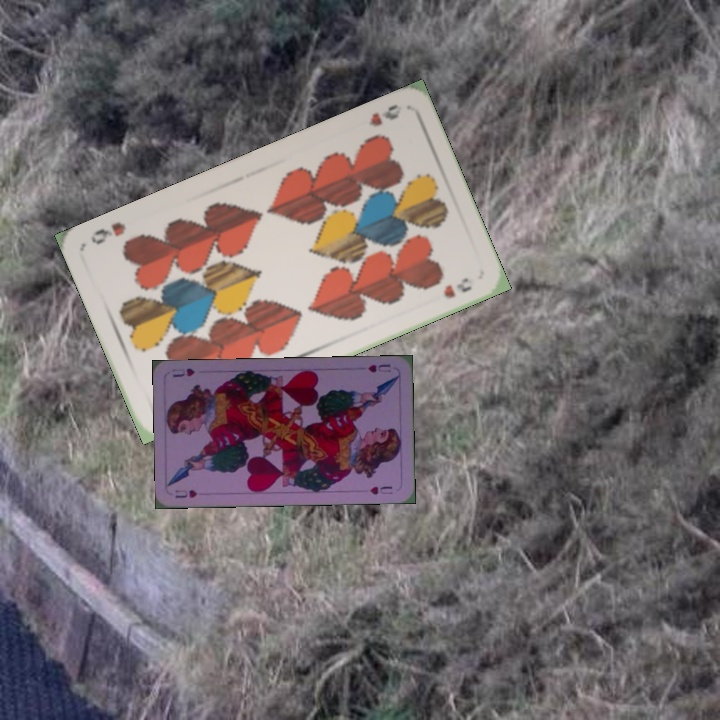H9: (365, 100, 405, 129)
HU: (171, 485, 200, 501), (364, 360, 393, 375)
